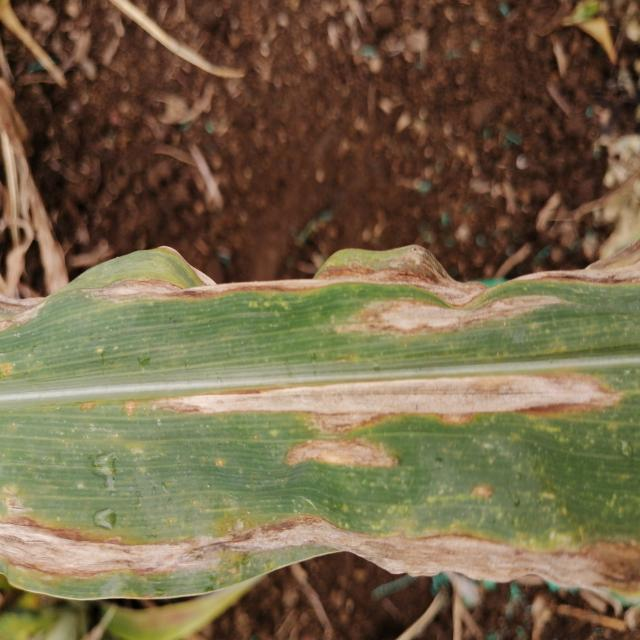Corn_Leaf_Blight: (0, 231, 640, 604)
